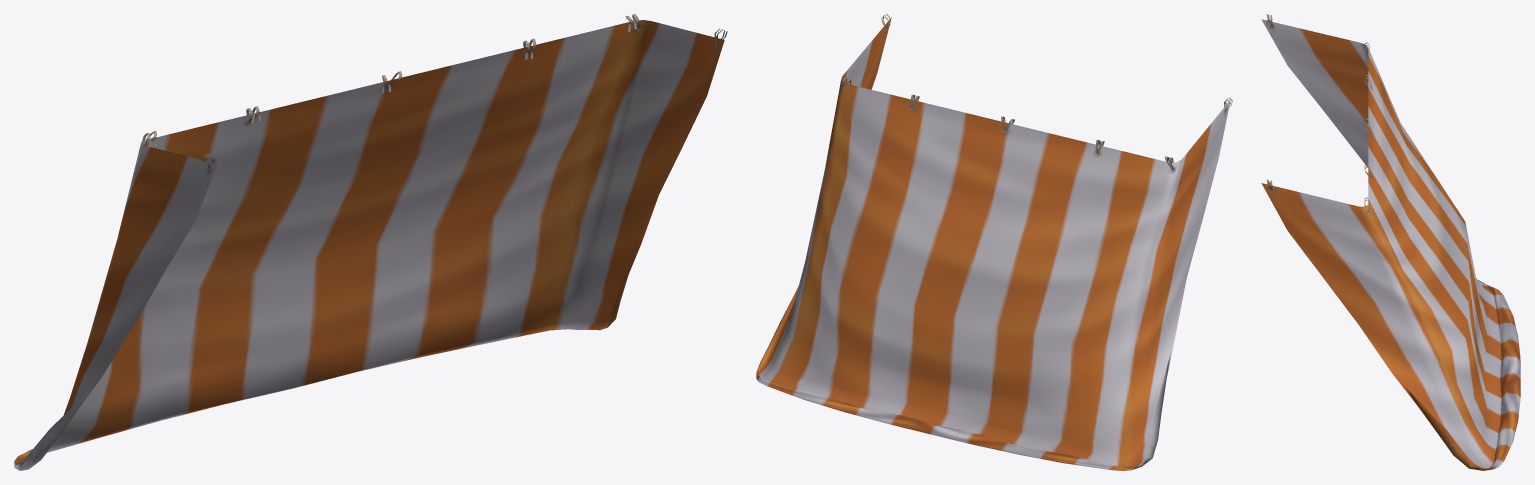
The model's file is jsf_BackSide_s02_c04_t02.fbx.
3 renders of one model, left to right at view 1: azimuth 30°, elevation 25°; view 2: azimuth 150°, elevation 25°; view 3: azimuth 270°, elevation 25°, orthographic. The views are drawn at different scales.
Visible parts, largest first — view 1: jsf_BackSide_s02_c04_t02; view 2: jsf_BackSide_s02_c04_t02; view 3: jsf_BackSide_s02_c04_t02.
Part boxes in pixels (x1=…): jsf_BackSide_s02_c04_t02: x1=14, y1=14, x2=727, y2=470; jsf_BackSide_s02_c04_t02: x1=756, y1=14, x2=1232, y2=470; jsf_BackSide_s02_c04_t02: x1=1261, y1=14, x2=1520, y2=470.
Size of the model in its own units: 296 by 205 by 171.
